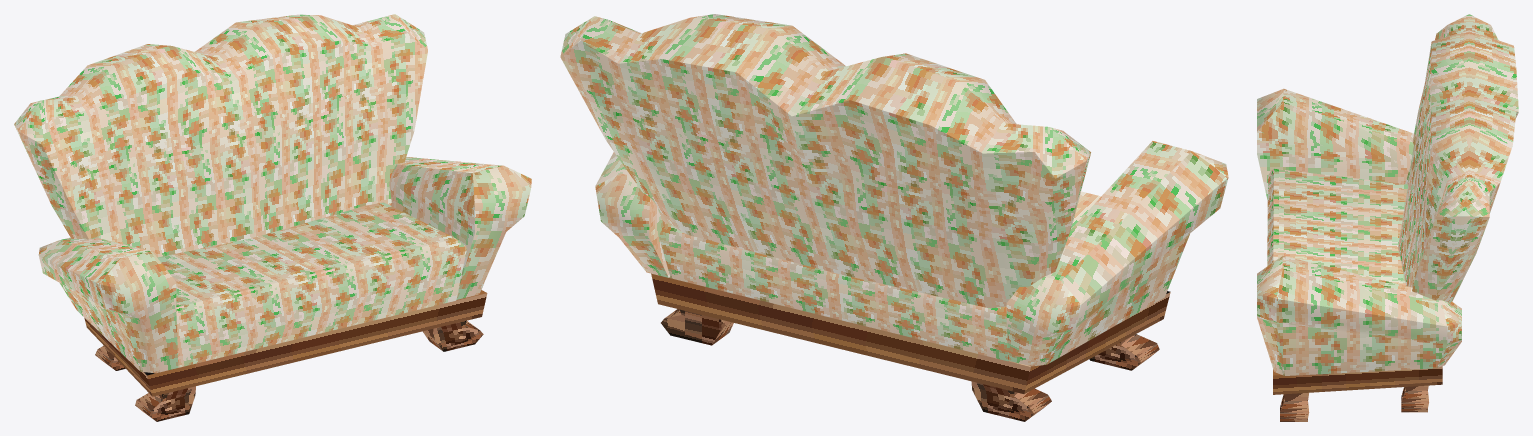
File: isu27-2.glb
3 renders of one model, left to right at view 1: azimuth 30°, elevation 25°; view 2: azimuth 150°, elevation 25°; view 3: azimuth 270°, elevation 25°, orthographic. The views are drawn at different scales.
Parts seen in each view (by area): view 1: isu27_2; view 2: isu27_2; view 3: isu27_2.
Boxes of the visible parts, left/top/right/bottom form: isu27_2: left=14, top=14, right=531, bottom=421; isu27_2: left=560, top=14, right=1228, bottom=421; isu27_2: left=1257, top=14, right=1518, bottom=421.
Bounding box in the file's own units: 401 × 246 × 216.
5 materials, 5 textured.
